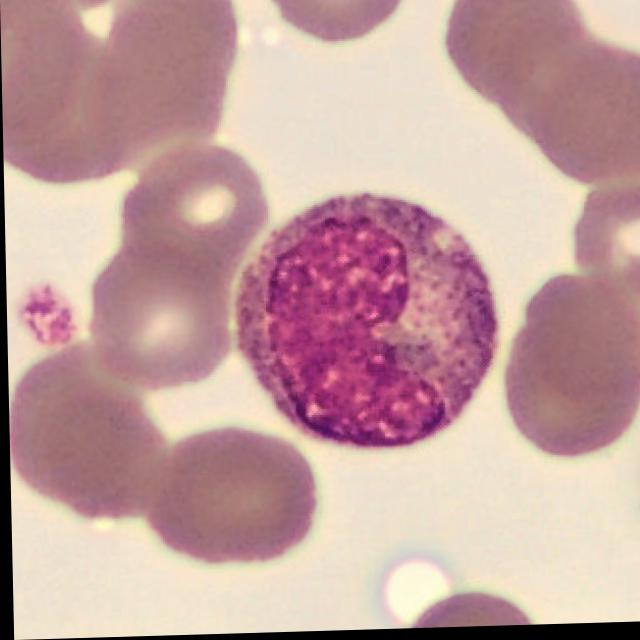Metamielocito: (233, 197, 495, 452)
